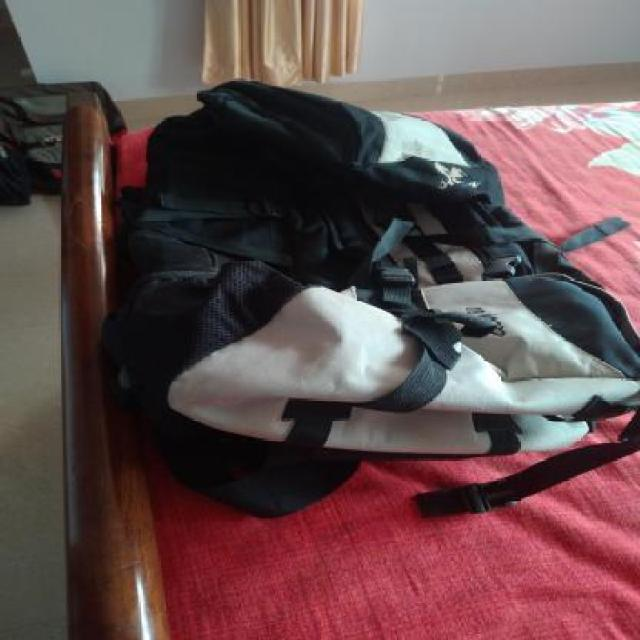backpack: (104, 72, 640, 523)
